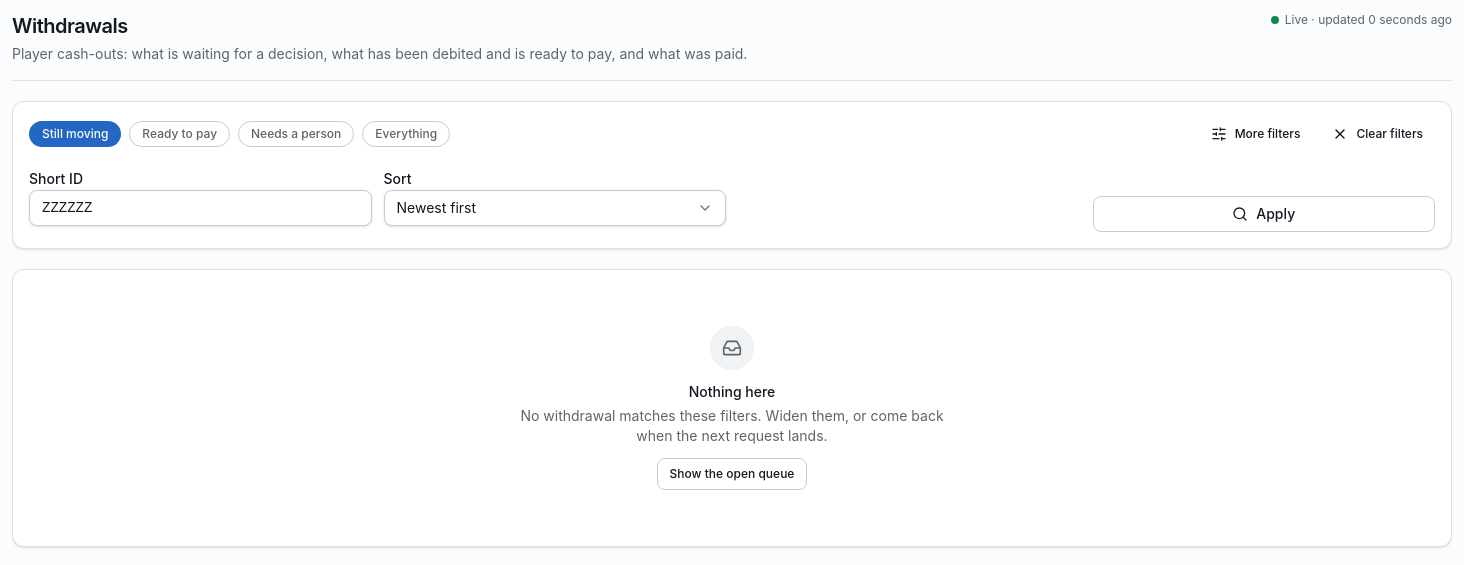
Test: WithdrawalsPage › offers a way out of a queue its filters emptied
The image size is (1464, 565).
Expected: the text "Nothing here" is shown, left=689, top=383, right=775, bottom=400
What coordinates should you click on to do the following:
click the button "Show the open queue"
I would click on:
 (732, 474)
Its box is left=657, top=458, right=807, bottom=490.
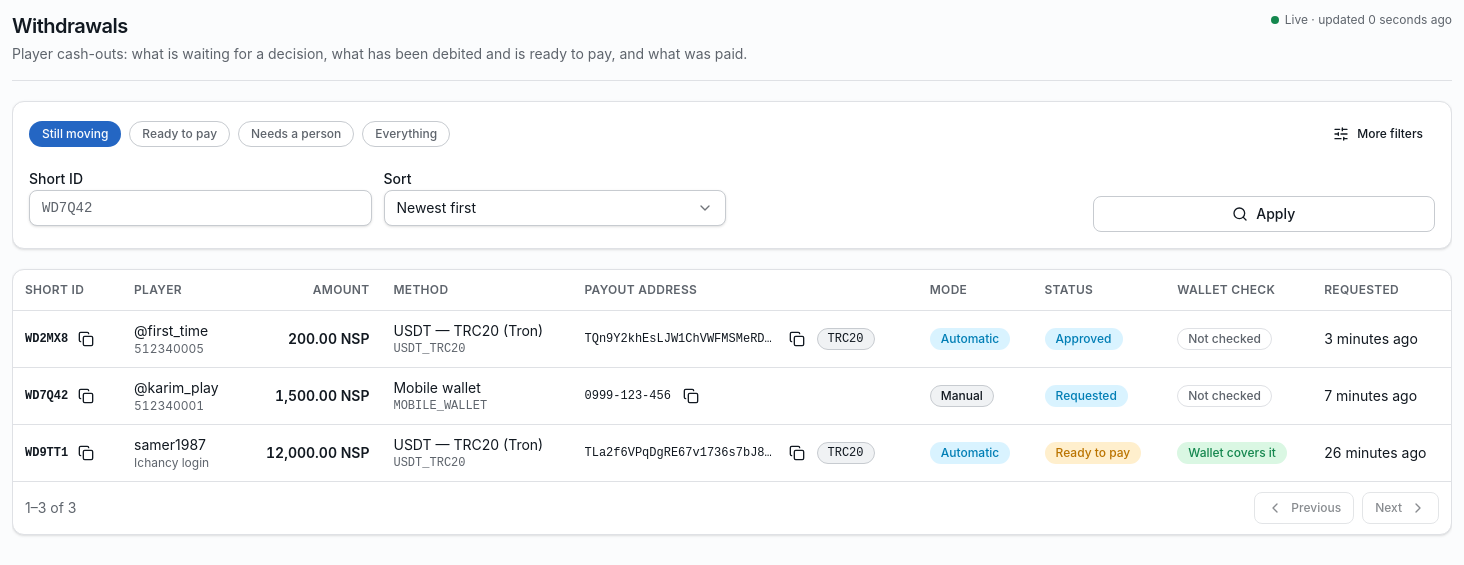
Result: the button "WD7Q42" is shown at left=25, top=388, right=68, bottom=404
